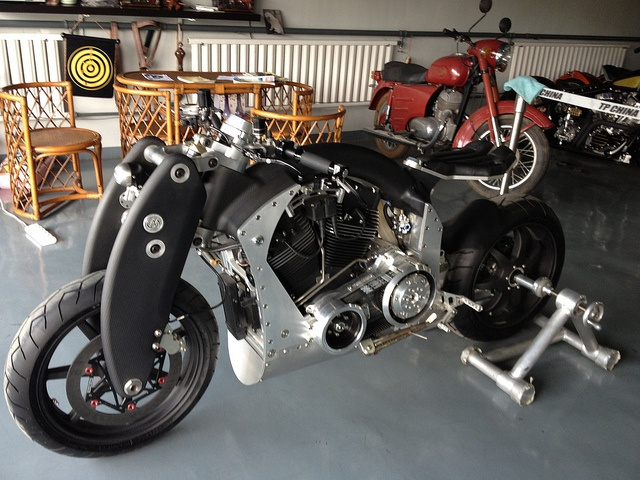non-vehicle: (1, 89, 564, 460), (361, 0, 555, 190), (499, 64, 640, 164)
